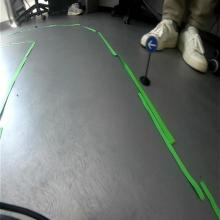left: (145, 35, 158, 53)
